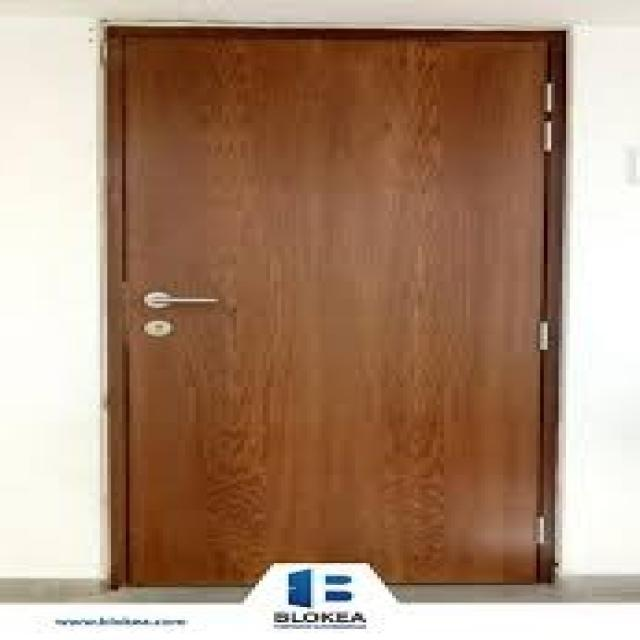door: (104, 24, 566, 587)
